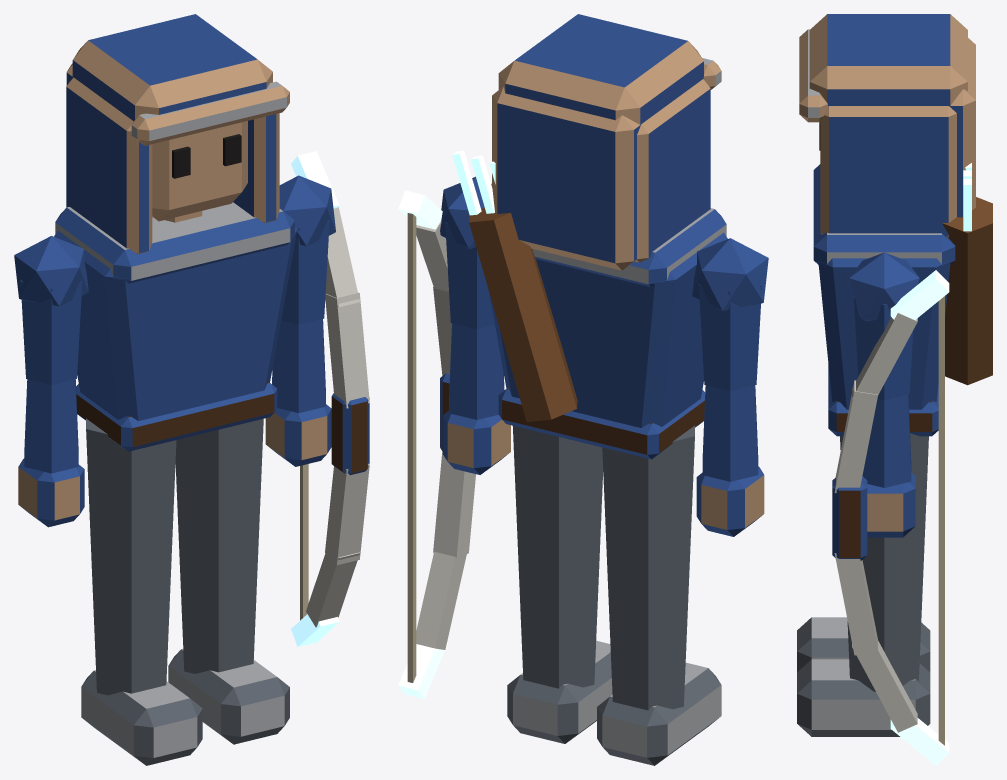
File: frost_ranger.glb
3 views of the same model, side by side, from view 1: azimuth 30°, elevation 25°; view 2: azimuth 150°, elevation 25°; view 3: azimuth 270°, elevation 25° (orthographic). The views are drawn at different scales.
Visible parts, largest first — view 1: torso, head, arm_l, leg_r, leg_l, arm_r; view 2: head, torso, arm_l, leg_r, leg_l, arm_r; view 3: head, arm_l, torso, leg_l, leg_r.
Part boxes in pixels (x1,y1,x2,y2): torso: (54,202,297,451); head: (66,14,289,253); arm_l: (265,151,369,646); leg_r: (81,418,202,765); leg_l: (168,419,289,744); arm_r: (14,236,88,527); head: (492,14,721,270); torso: (452,150,727,459); arm_l: (398,176,510,698); leg_r: (597,425,721,765); leg_l: (507,426,612,743); arm_r: (692,238,768,536); head: (799,14,975,237); arm_l: (832,252,949,765); torso: (813,163,992,436); leg_l: (797,433,930,736); leg_r: (797,617,930,672).
Size of the model in its own units: 0.856 by 1.68 by 0.4471.
